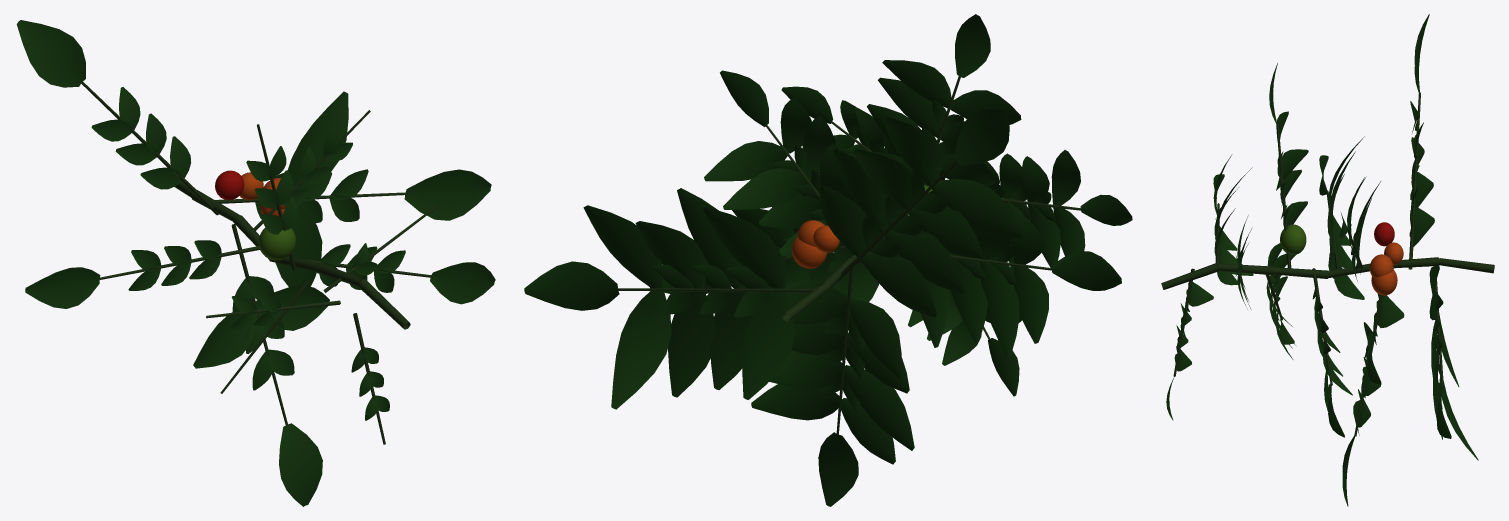
File: tomato_plant_fruiting_1.obj
The picture shows the model from 3 angles, left to right: view 1: azimuth 30°, elevation 25°; view 2: azimuth 150°, elevation 25°; view 3: azimuth 270°, elevation 25°; orthographic projection. The views are drawn at different scales.
Visible parts, largest first — view 1: p_leaves, p_stem, p_fr2, p_fr0; view 2: p_leaves, p_stem, p_fr1; view 3: p_leaves, p_stem, p_fr2, p_fr1, p_fr4, p_fr0.
Part boxes in pixels (left/top/right/bottom): p_leaves: left=16, top=20, right=495, bottom=506; p_stem: left=81, top=82, right=437, bottom=444; p_fr2: left=258, top=227, right=295, bottom=260; p_fr0: left=215, top=170, right=244, bottom=200; p_leaves: left=524, top=14, right=1132, bottom=506; p_stem: left=617, top=76, right=1080, bottom=434; p_fr1: left=791, top=237, right=826, bottom=268; p_leaves: left=1166, top=14, right=1478, bottom=506; p_stem: left=1161, top=92, right=1494, bottom=436; p_fr2: left=1280, top=224, right=1306, bottom=254; p_fr1: left=1371, top=270, right=1397, bottom=295; p_fr4: left=1369, top=254, right=1393, bottom=277; p_fr0: left=1374, top=222, right=1394, bottom=246.
Size of the model in its own units: 1.35 by 1.2 by 0.905.
